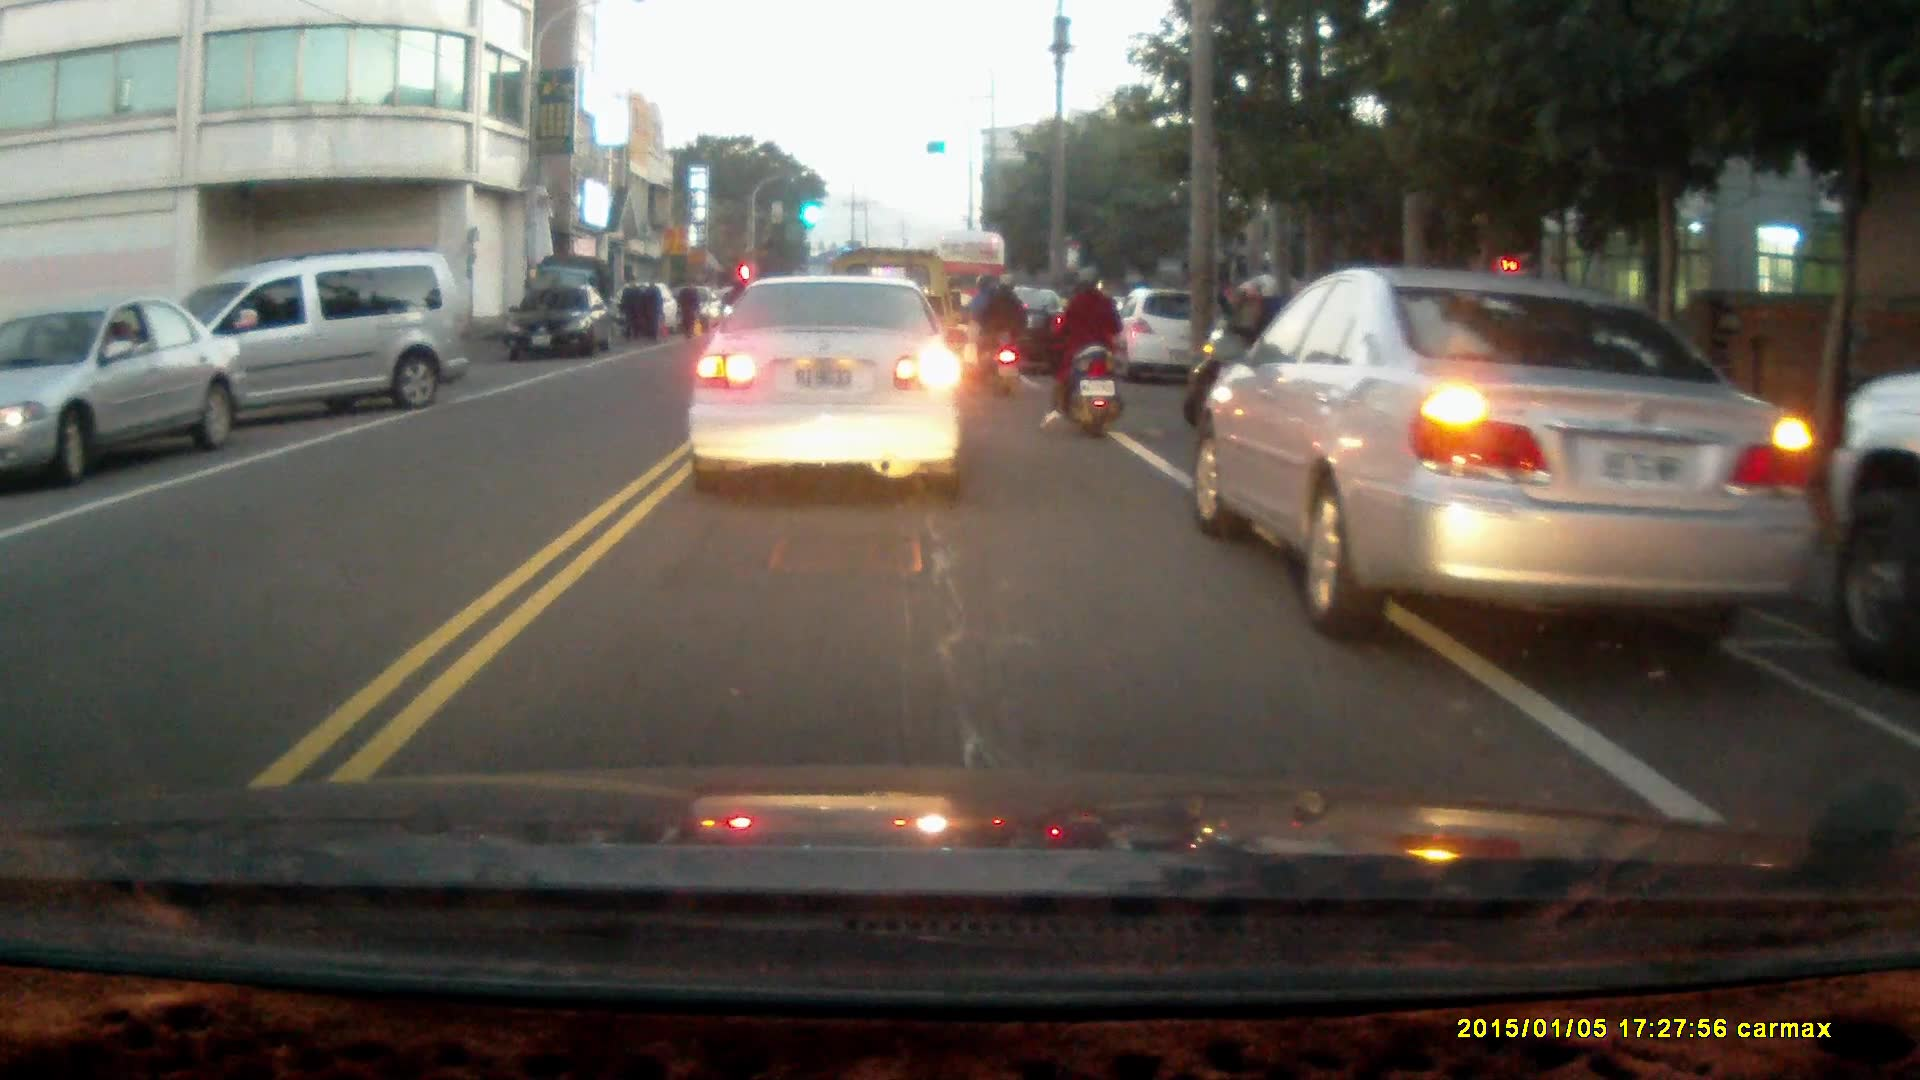pedestrian: (616, 271, 643, 343), (673, 272, 701, 337), (637, 269, 659, 346)
rider: (1183, 272, 1309, 442), (1032, 262, 1125, 439), (958, 268, 1026, 395)
vehicle: (1188, 260, 1821, 642), (686, 272, 969, 498), (128, 251, 470, 438), (1, 296, 248, 486), (1824, 359, 1920, 677), (967, 282, 1118, 382), (1113, 289, 1221, 388), (509, 280, 614, 359)
